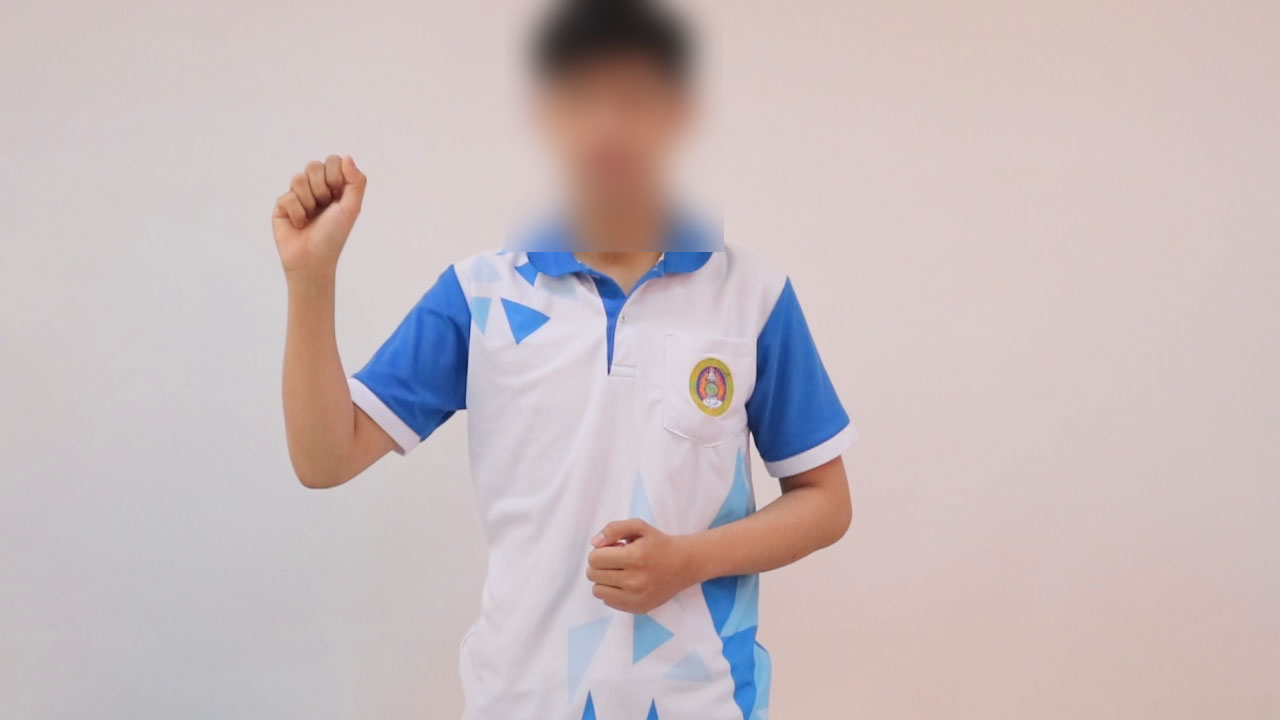sor: (253, 144, 377, 282)
